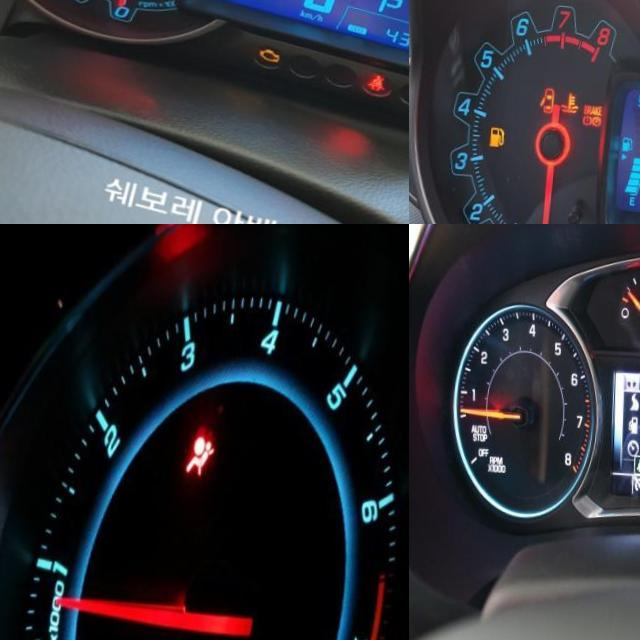Doors: (540, 84, 557, 110)
Engine cooling system: (562, 90, 581, 111)
Low fuel level: (490, 122, 508, 147)
